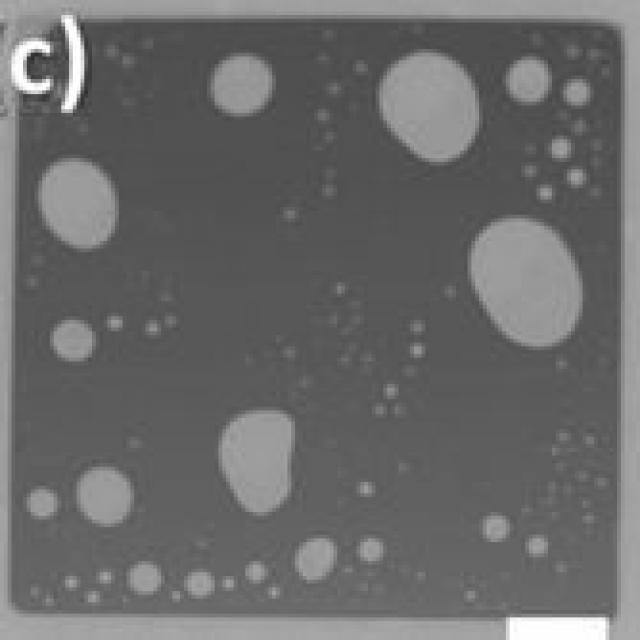component: (15, 23, 621, 617)
void: (467, 214, 585, 351), (377, 49, 483, 159), (215, 403, 301, 513), (33, 165, 118, 244), (212, 55, 276, 112), (74, 460, 131, 522), (294, 535, 334, 585), (54, 318, 95, 361), (510, 56, 548, 100), (125, 562, 161, 595), (479, 514, 514, 544), (29, 485, 59, 517), (566, 76, 592, 102), (185, 571, 213, 592), (526, 537, 550, 558), (246, 562, 269, 583), (548, 139, 570, 159), (361, 540, 384, 557), (567, 167, 584, 185), (126, 437, 146, 452), (408, 341, 425, 357), (146, 318, 159, 338), (383, 383, 400, 398), (358, 482, 374, 497), (322, 184, 337, 200), (65, 574, 79, 591), (315, 109, 333, 122), (284, 346, 299, 361), (106, 319, 123, 332), (284, 204, 297, 221), (356, 60, 372, 73), (465, 590, 480, 603), (268, 586, 282, 599), (575, 468, 588, 482), (540, 186, 553, 199), (394, 403, 407, 416), (444, 283, 455, 298), (223, 577, 235, 590), (557, 430, 570, 442), (374, 404, 387, 416), (166, 316, 180, 327), (98, 572, 112, 583), (44, 595, 59, 605), (87, 592, 99, 604), (556, 562, 569, 573), (411, 321, 424, 332), (524, 165, 538, 175), (596, 476, 608, 487), (398, 460, 409, 472), (335, 283, 346, 295), (170, 590, 180, 603), (29, 585, 38, 598), (551, 445, 560, 457), (547, 481, 555, 494), (583, 514, 595, 522), (584, 435, 594, 444), (582, 500, 592, 509)
